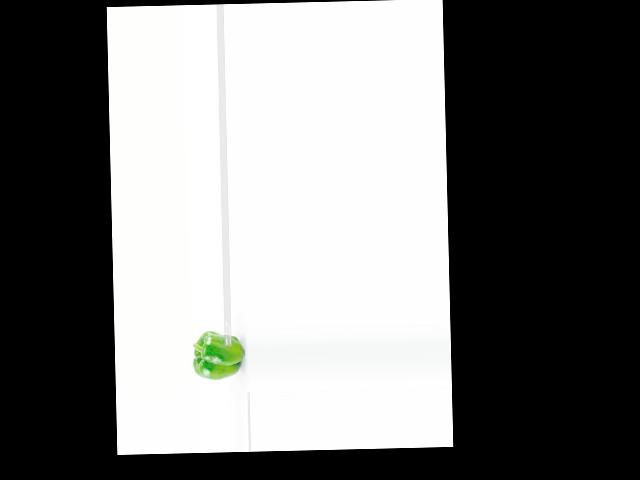bell_pepper: (189, 330, 247, 382)
